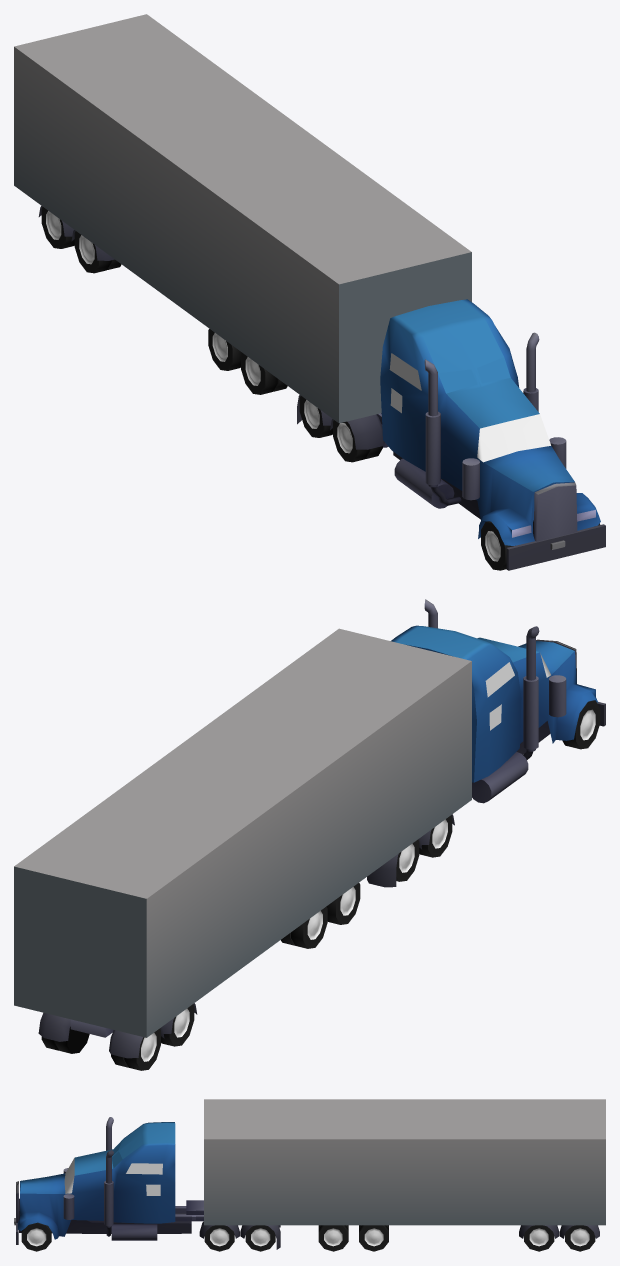
The model's file is vehicles-trucks-vans-semi-truck_v1.glb.
3 renders of one model, top to bottom at view 1: azimuth 30°, elevation 25°; view 2: azimuth 150°, elevation 25°; view 3: azimuth 270°, elevation 25°, orthographic. The views are drawn at different scales.
Visible parts, largest first — view 1: Semi Truck; view 2: Semi Truck; view 3: Semi Truck.
Boxes of the visible parts, x1,y1,x2,y2 form: Semi Truck: (14,14,605,570); Semi Truck: (14,599,605,1070); Semi Truck: (14,1099,605,1251).
Bounding box in the file's own units: 3.37 × 4.62 × 21.
